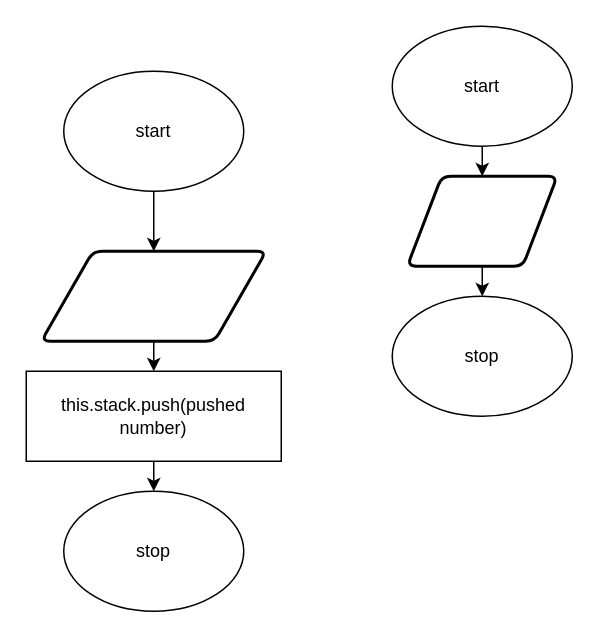
This 599x638 diagram has some shape labels left out. The shapes that lost their labels are listed below. From the top down, each one's centre as x and y in pixels, then its label:
At point 481,220: "show this.stack".
At point 153,295: "get pushed number".
